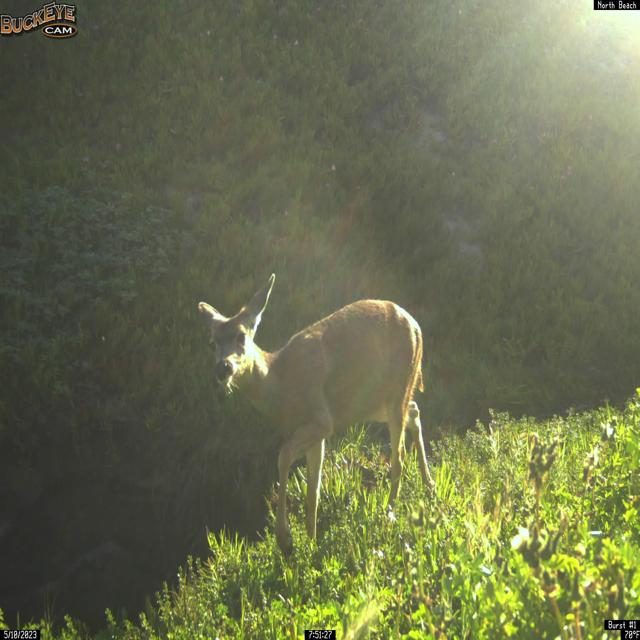deer: (197, 272, 438, 558)
